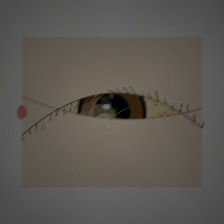corneal_ulcer: (79, 98, 125, 135)
